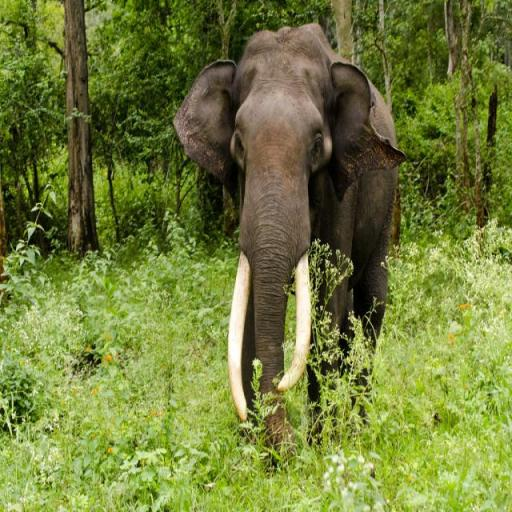Elephant: (172, 22, 407, 469)
